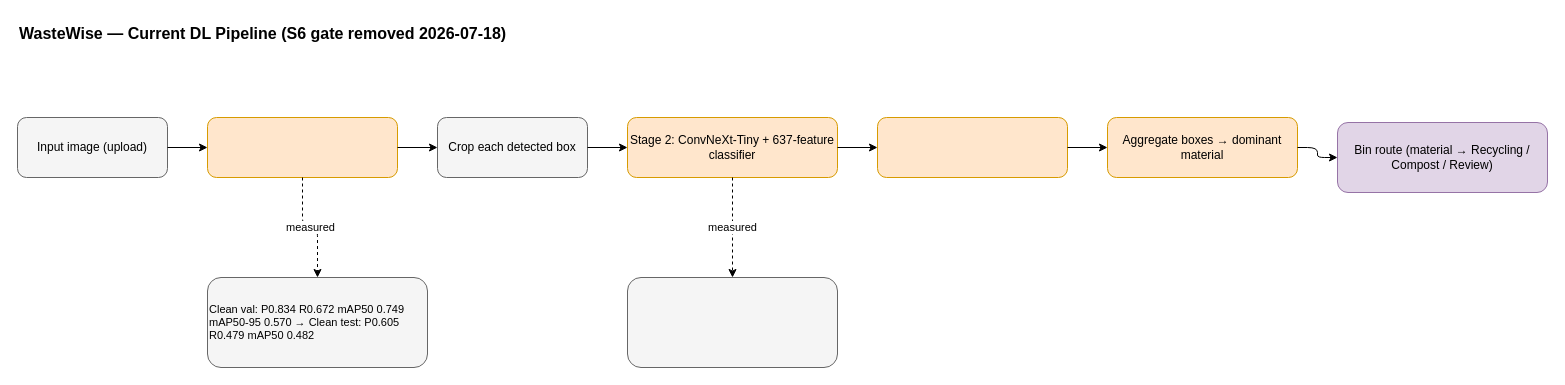
The diagram is 1565 pixels wide and 385 high, and some of its shapes have lost their labels. The shapes that lost their labels are listed below. From the top down, each one's box as (x1, y1, x2, y2) in pixels, then its label:
(206, 116, 398, 178): Stage 1: YOLO26m localization
(876, 116, 1068, 178): Alpha-blend fusion (≤0.40) + scene context prior
(626, 276, 838, 368): Clean GT-crop: 93.77% → Detector's own crops (production): 88.88%
